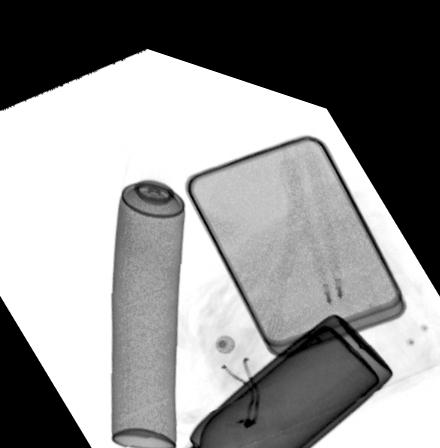Sprayer: (109, 132, 185, 442)
